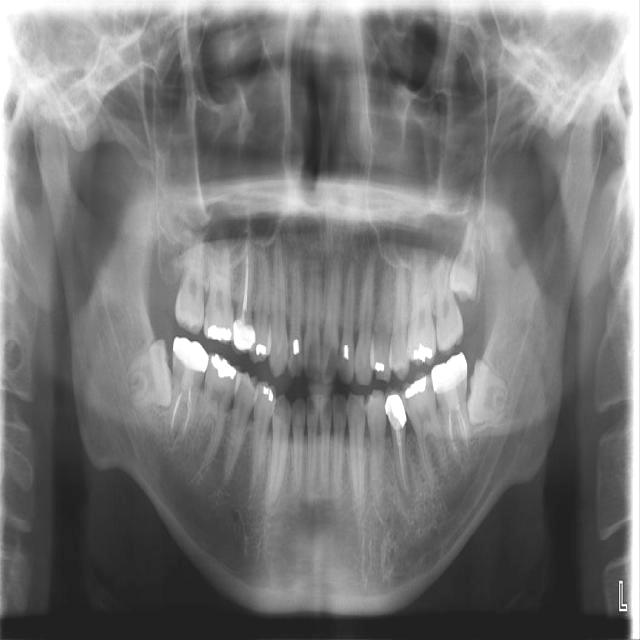Crown: (172, 337, 209, 384), (431, 352, 467, 397), (231, 311, 256, 354), (385, 387, 406, 431)
Filling: (210, 355, 241, 380), (403, 377, 432, 400), (203, 325, 233, 341), (408, 346, 431, 361), (372, 359, 388, 378), (261, 385, 276, 404), (291, 338, 303, 359), (341, 344, 353, 365), (254, 339, 267, 356)
Periapical lesion: (398, 472, 416, 512)
Root Canal Treatment: (179, 385, 192, 436), (396, 430, 406, 490), (242, 241, 249, 311), (171, 393, 184, 430), (457, 408, 468, 444), (449, 409, 457, 454)
impacted tooth: (125, 340, 172, 409), (468, 361, 509, 423), (450, 219, 481, 300)
